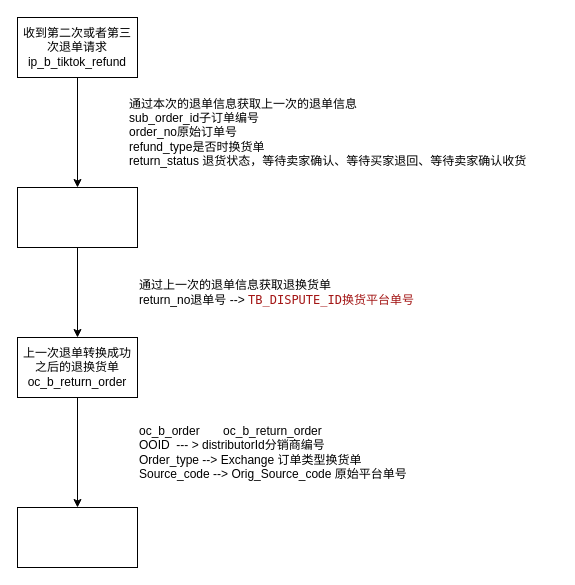
The diagram is 575 pixels wide and 585 high, and some of its shapes have lost their labels. The shapes that lost their labels are listed below. From the top down, each one's centre as x and y in pixels, then its label:
point 77,217: 取最近的一次退单中间表数据（相当于拿到上一次的退单信息） ip_b_tiktok_refund
point 77,537: 上次生成的换新单 oc_b_order
